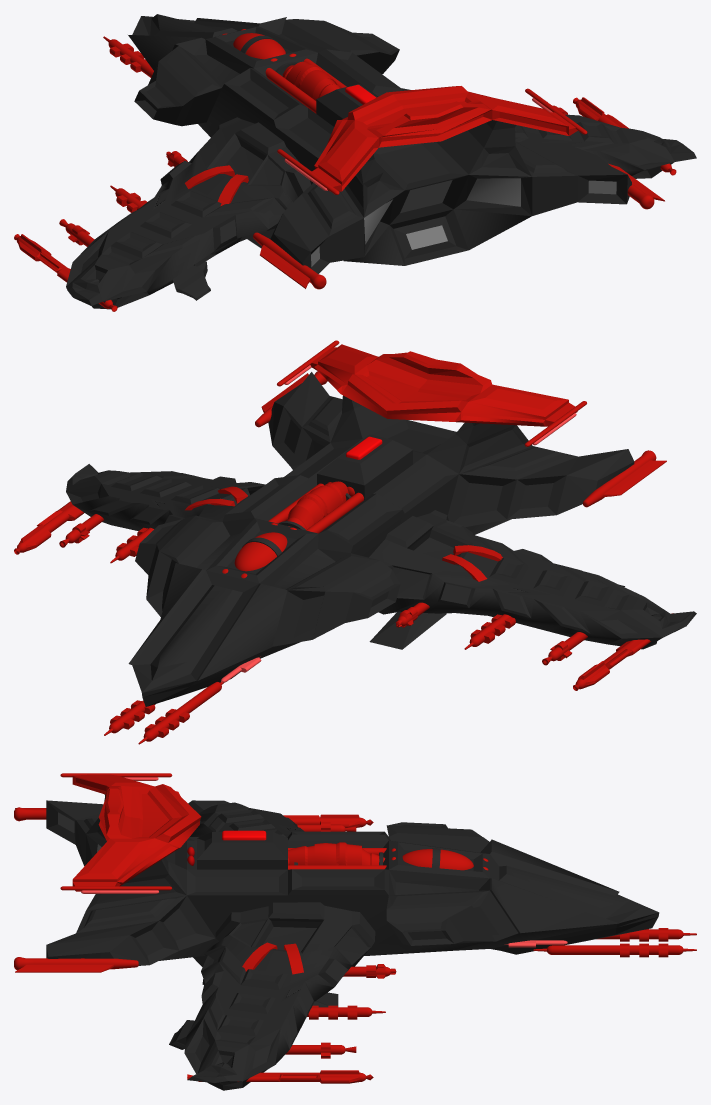
File: ennemiMoyen.fbx
3 views of the same model, one above another, from view 1: azimuth 30°, elevation 25°; view 2: azimuth 150°, elevation 25°; view 3: azimuth 270°, elevation 25° (orthographic). The views are drawn at different scales.
Parts seen in each view (by area): view 1: Enemy Mid; view 2: Enemy Mid; view 3: Enemy Mid.
Boxes of the visible parts, x1=… form: Enemy Mid: x1=14, y1=14, x2=696, y2=311; Enemy Mid: x1=14, y1=340, x2=696, y2=744; Enemy Mid: x1=14, y1=773, x2=696, y2=1090.
Size of the model in its own units: 7.63 by 7.88 by 2.16.
